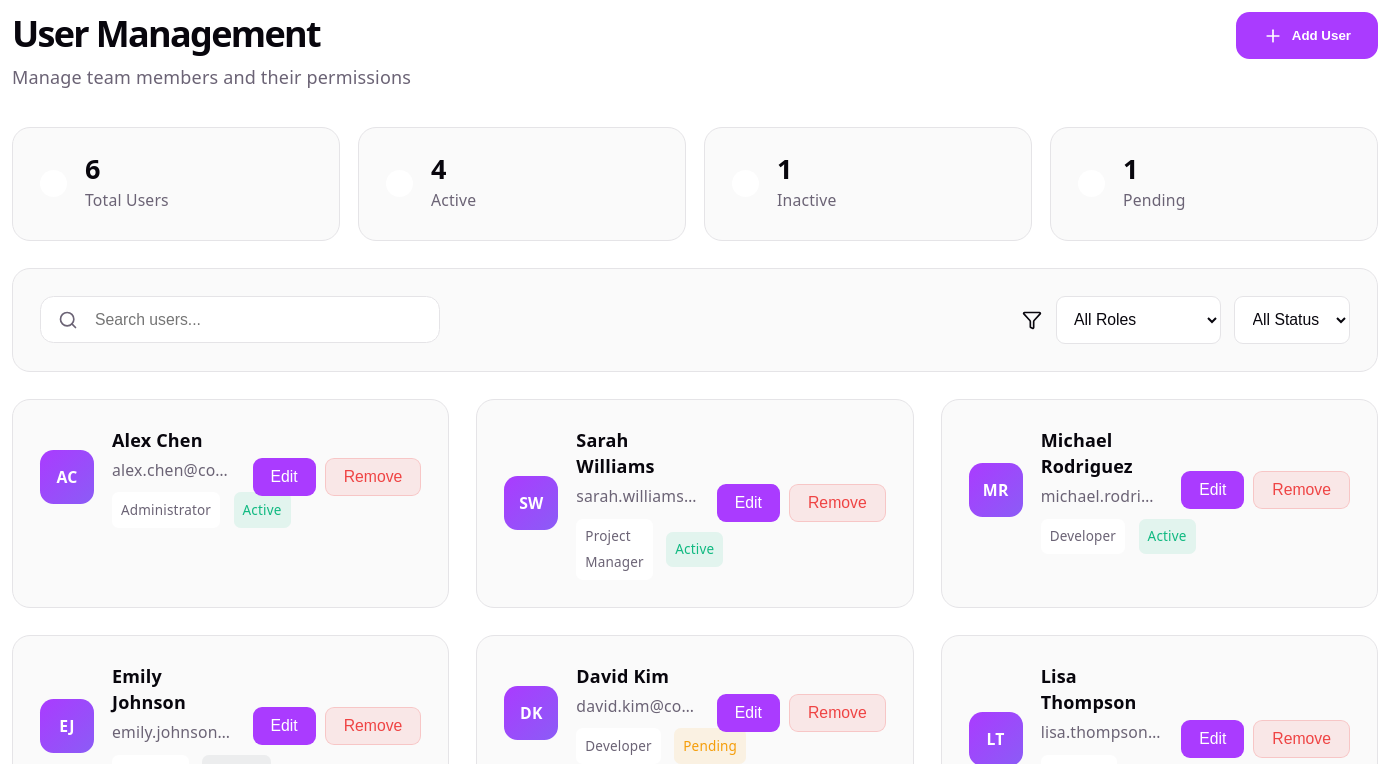
Test: UserManagement › Search functionality (P0) › filters users by search term (name)
This screenshot has width=1390, height=764.
Type "Alex Chen" into the field with placeholder "Search users...". click: (240, 320)
box: [40,296,440,343]
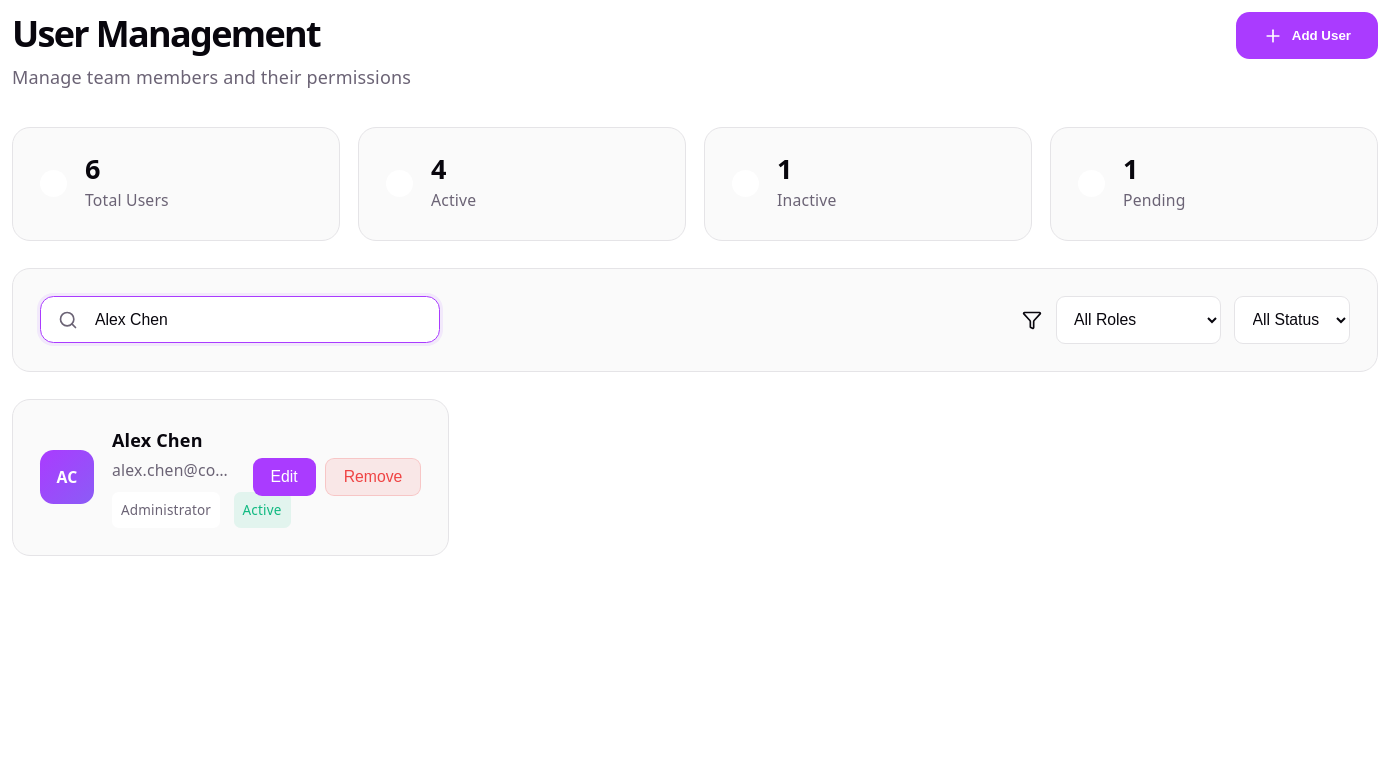
Expected: the heading "Sarah Williams" is gone
Expected: the heading "Michael Rodriguez" is gone
Expected: the heading "Emily Johnson" is gone
